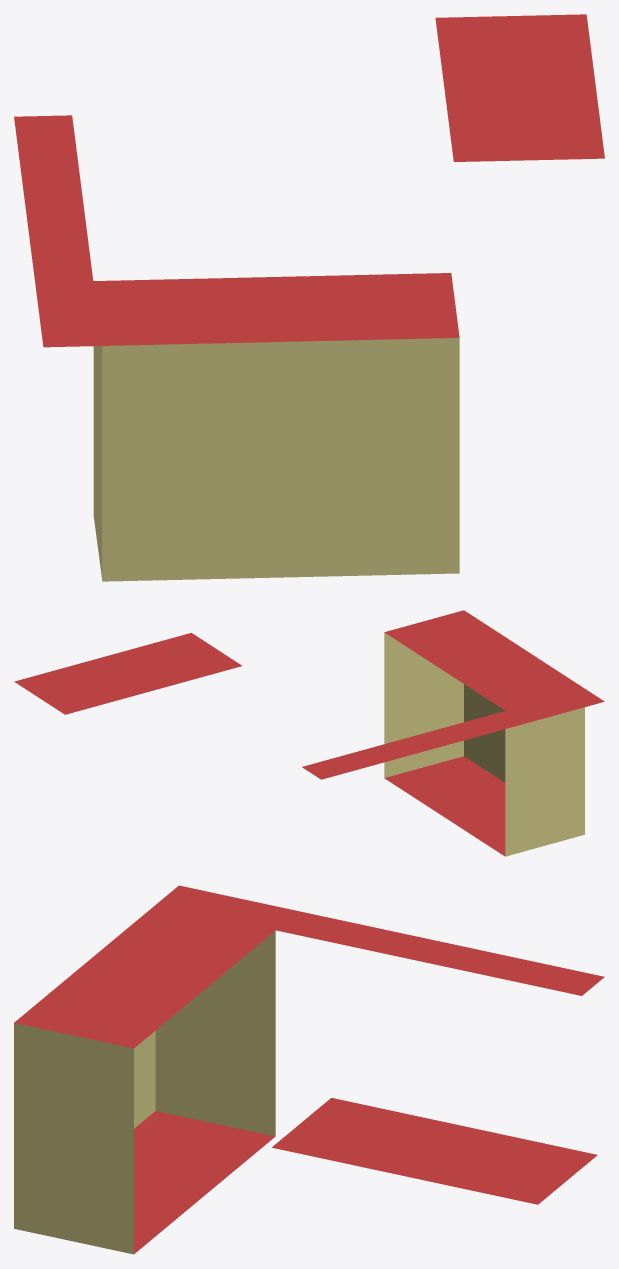
3 views of the same model, one above another, from view 1: azimuth 30°, elevation 25°; view 2: azimuth 150°, elevation 25°; view 3: azimuth 270°, elevation 25° (orthographic). The views are drawn at different scales.
Bounding box in the file's own units: 21.39 × 16.73 × 6.43.
